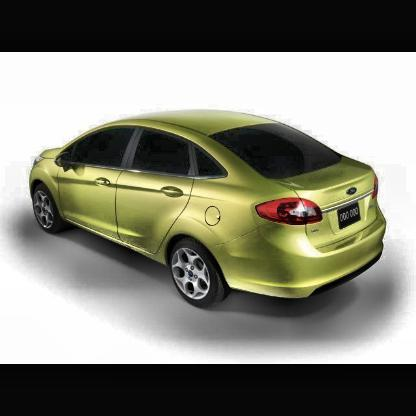Ford Fiesta Sedan 2012: (30, 109, 389, 309)
